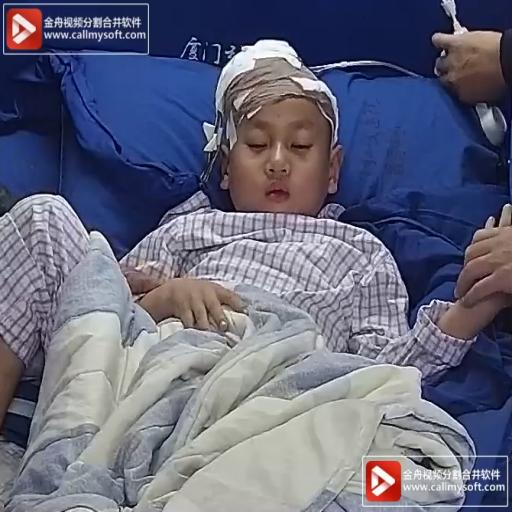Seizure: (207, 35, 346, 215)
